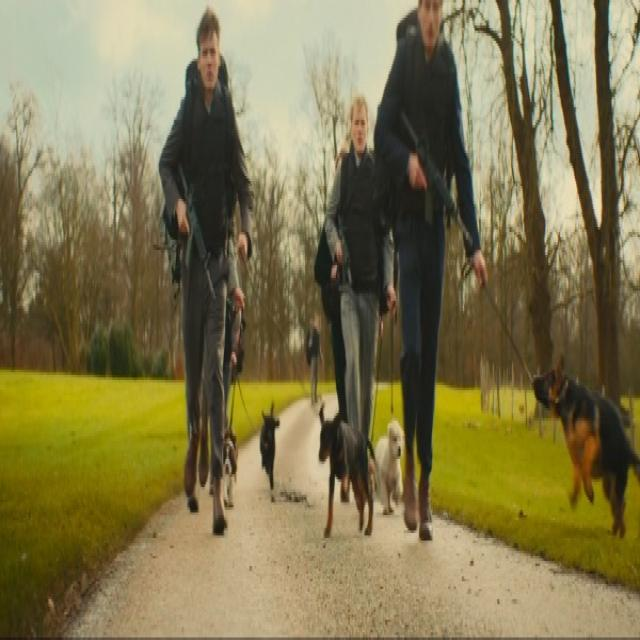rifle: (398, 110, 478, 251), (177, 162, 222, 315)
